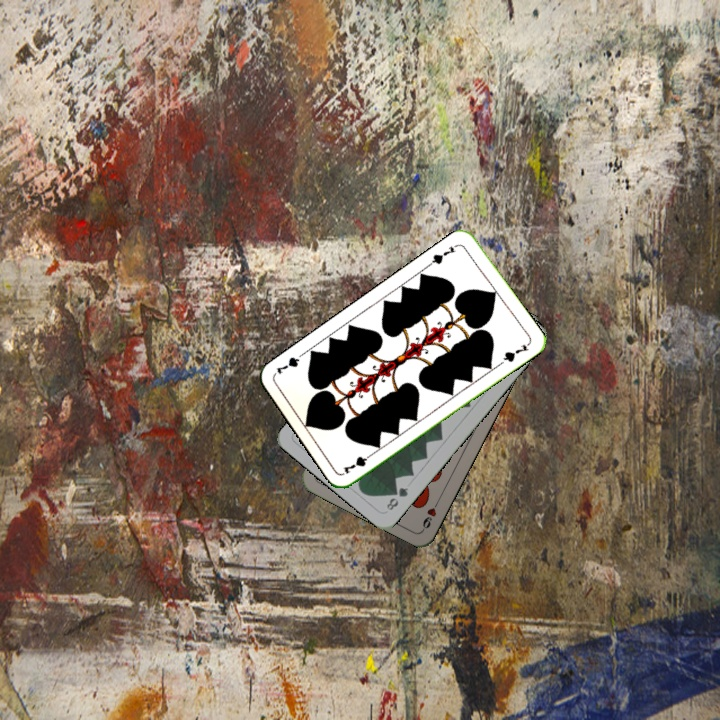G7: (339, 448, 377, 477), (425, 240, 461, 268)
G8: (382, 483, 411, 513)
H9: (418, 494, 442, 532)
